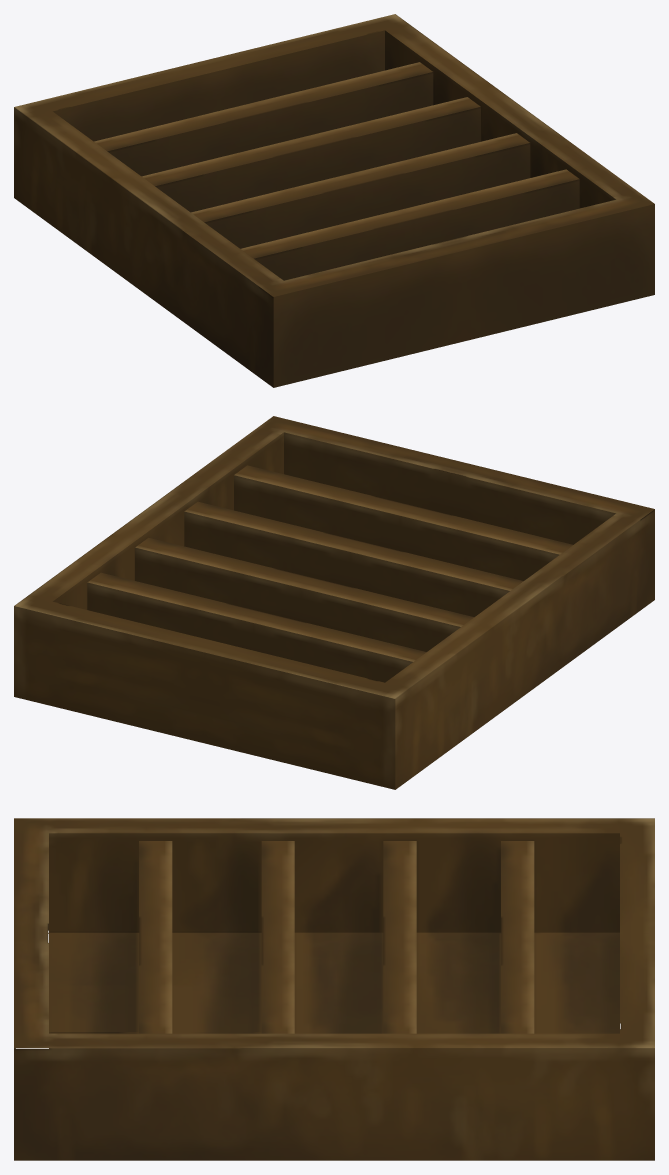
The model's file is props_book_shelf.fbx.
3 views of the same model, one above another, from view 1: azimuth 30°, elevation 25°; view 2: azimuth 150°, elevation 25°; view 3: azimuth 270°, elevation 25° (orthographic). The views are drawn at different scales.
Parts seen in each view (by area): view 1: book_shelf; view 2: book_shelf; view 3: book_shelf.
Part boxes in pixels (x1,y1,x2,y2): book_shelf: (14, 14, 654, 387); book_shelf: (14, 416, 654, 789); book_shelf: (14, 818, 654, 1160).
Size of the model in its own units: 1.81 by 0.4112 by 2.13.
Materials: 1 (1 with a texture image).
